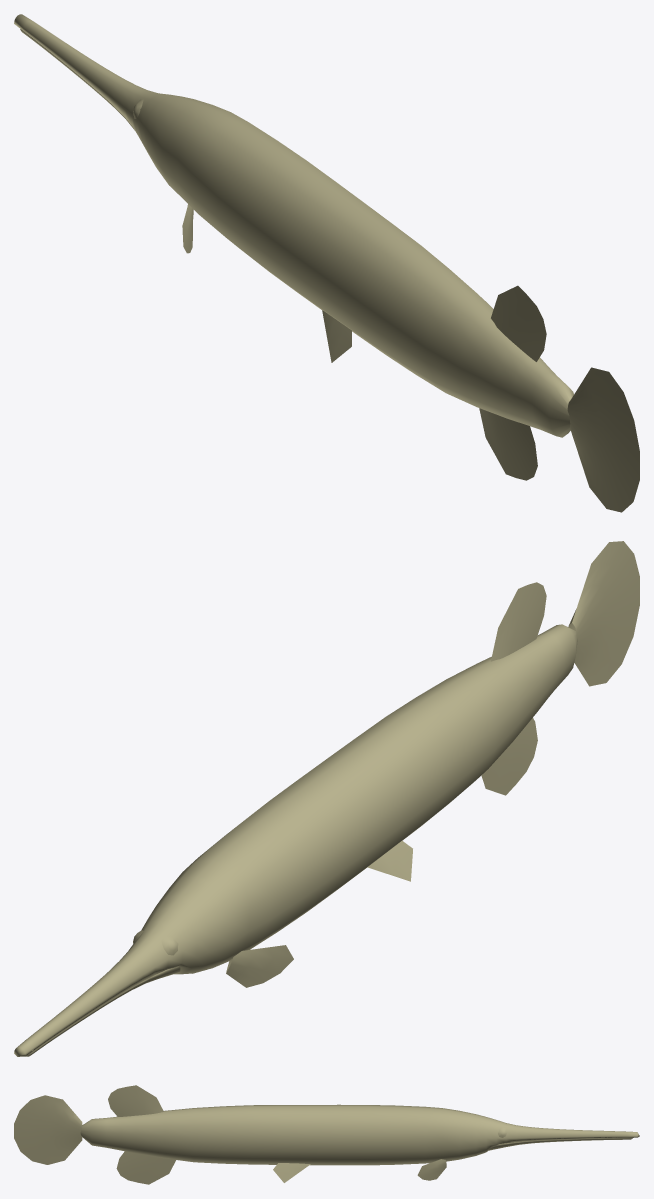
Rendered from gar_lo.glb.
The picture shows the model from 3 angles, top to bottom: view 1: azimuth 30°, elevation 25°; view 2: azimuth 150°, elevation 25°; view 3: azimuth 270°, elevation 25°; orthographic projection. The views are drawn at different scales.
Parts seen in each view (by area): view 1: gar_lo; view 2: gar_lo; view 3: gar_lo.
Boxes of the visible parts, x1=… form: gar_lo: x1=14, y1=14, x2=639, y2=512; gar_lo: x1=14, y1=541, x2=639, y2=1056; gar_lo: x1=14, y1=1085, x2=639, y2=1184.
Size of the model in its own units: 0.1327 by 0.2264 by 1.29.
